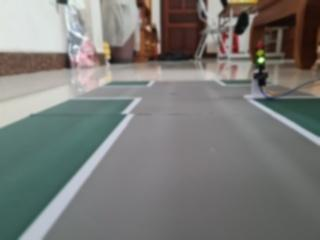green: (246, 33, 278, 73)
